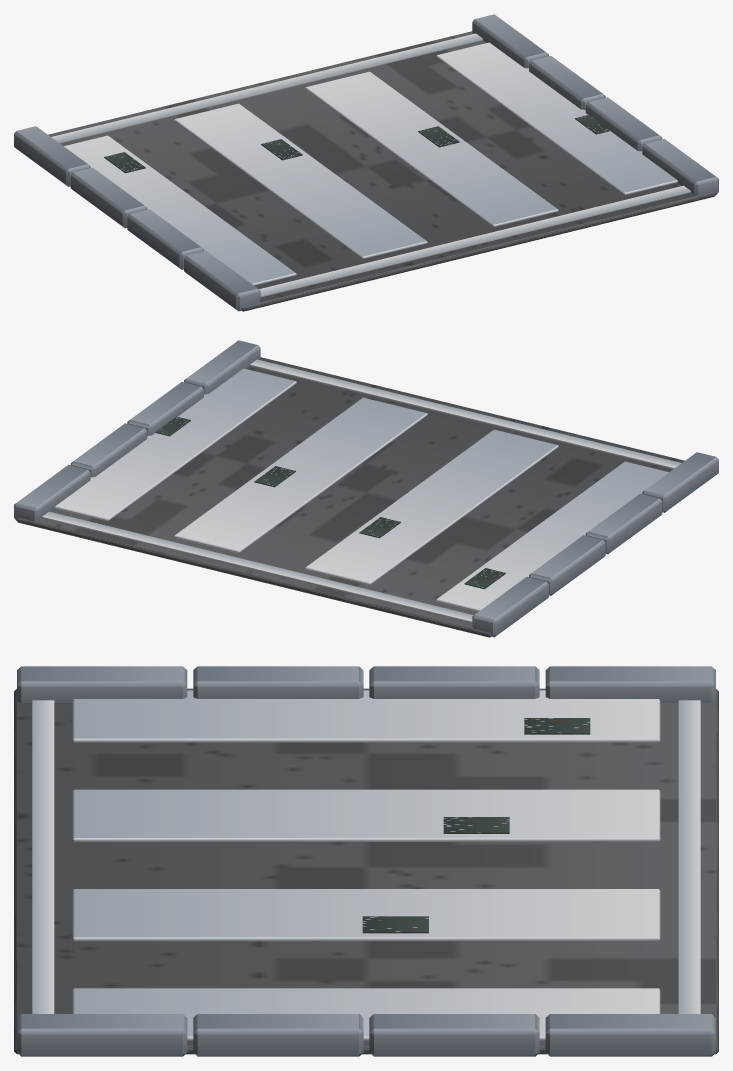
File: ck_crossing_zebra.fbx
3 renders of one model, top to bottom at view 1: azimuth 30°, elevation 25°; view 2: azimuth 150°, elevation 25°; view 3: azimuth 270°, elevation 25°, orthographic. The views are drawn at different scales.
Visible parts, largest first — view 1: ck_crossing_zebra; view 2: ck_crossing_zebra; view 3: ck_crossing_zebra.
Part boxes in pixels (left/top/right/bottom): ck_crossing_zebra: left=14, top=14, right=718, bottom=311; ck_crossing_zebra: left=14, top=340, right=718, bottom=637; ck_crossing_zebra: left=14, top=666, right=718, bottom=1056.
Bounding box in the file's own units: 980 × 34.88 × 797.
